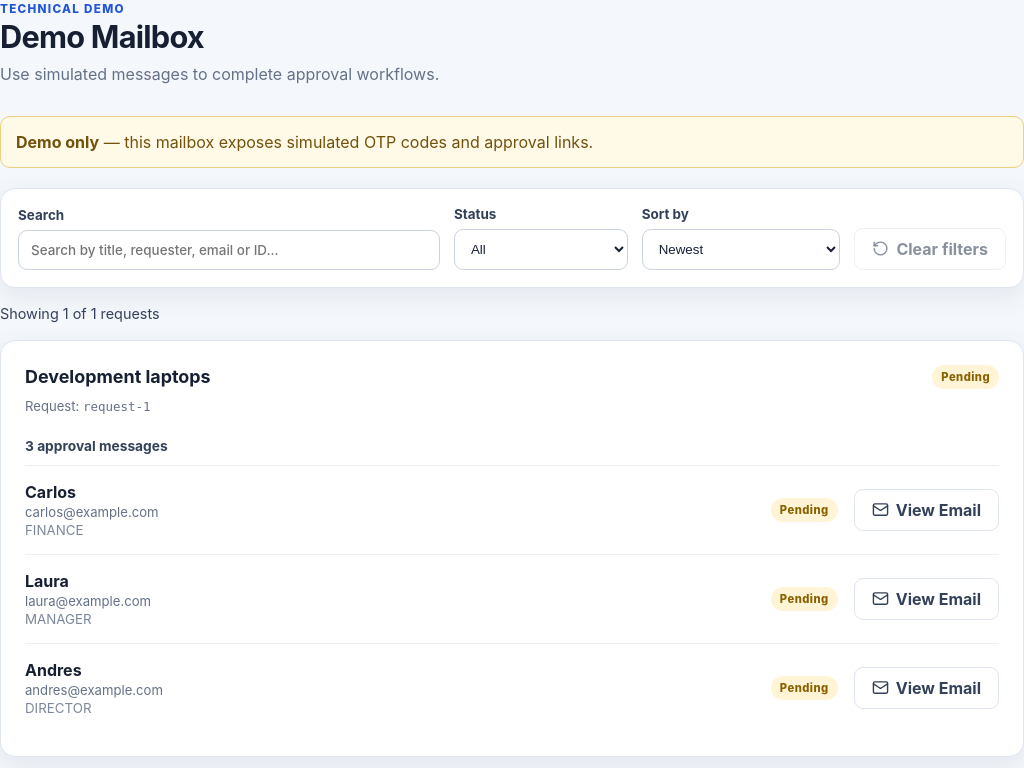
Test case: MockMailPage › for request PENDING and approver PENDING shows Open Approval
Step 1. Click the button "View Email" in the row of "carlos@example.com" → (926, 510), box [854,489,999,531]
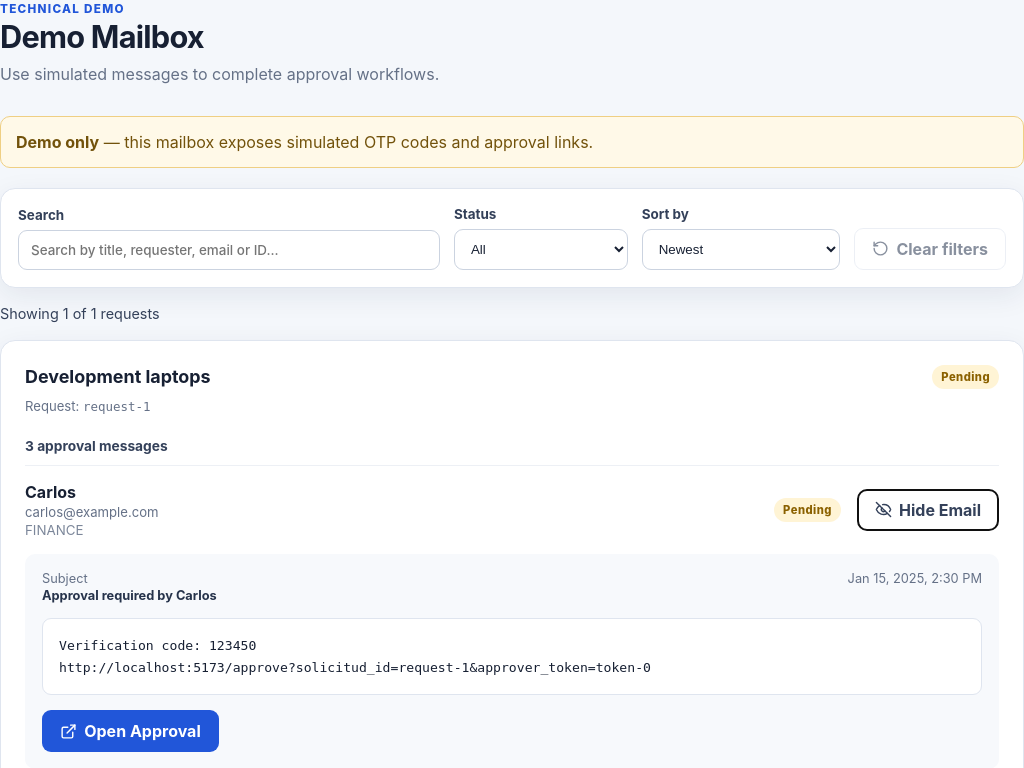
Now the text "Open Approval" is shown, box [84,721,201,741]
